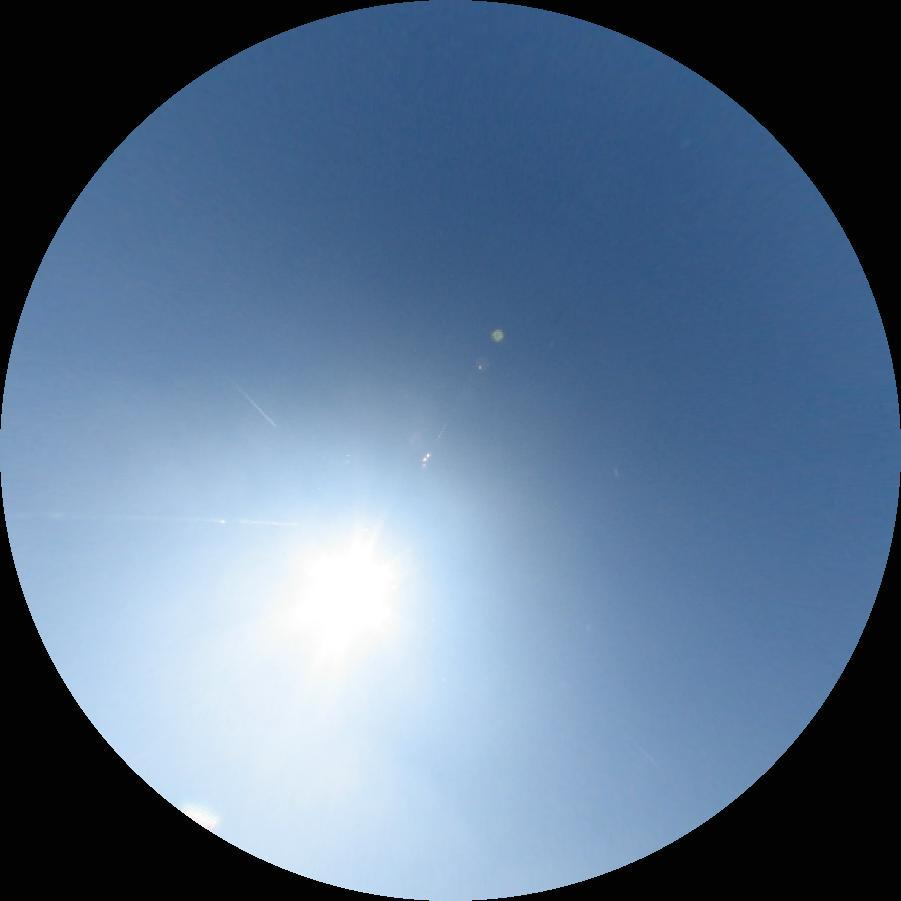contrail young: (223, 373, 278, 430), (623, 733, 664, 772)
parasite: (25, 509, 296, 525)
sun: (297, 536, 395, 628)
